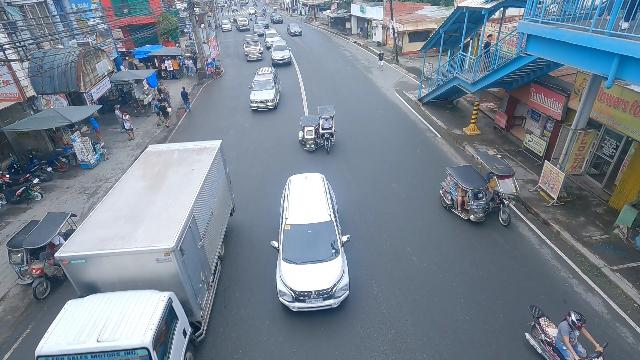car: (267, 172, 353, 312), (248, 67, 282, 111), (270, 40, 292, 67), (263, 28, 282, 50), (252, 22, 267, 37), (286, 23, 303, 36), (270, 11, 283, 24), (220, 19, 232, 31)
jeepney: (241, 34, 264, 62), (235, 17, 250, 32)
motorcycle: (522, 303, 610, 360), (262, 7, 266, 16), (249, 15, 253, 22)
truck: (33, 139, 237, 360)
